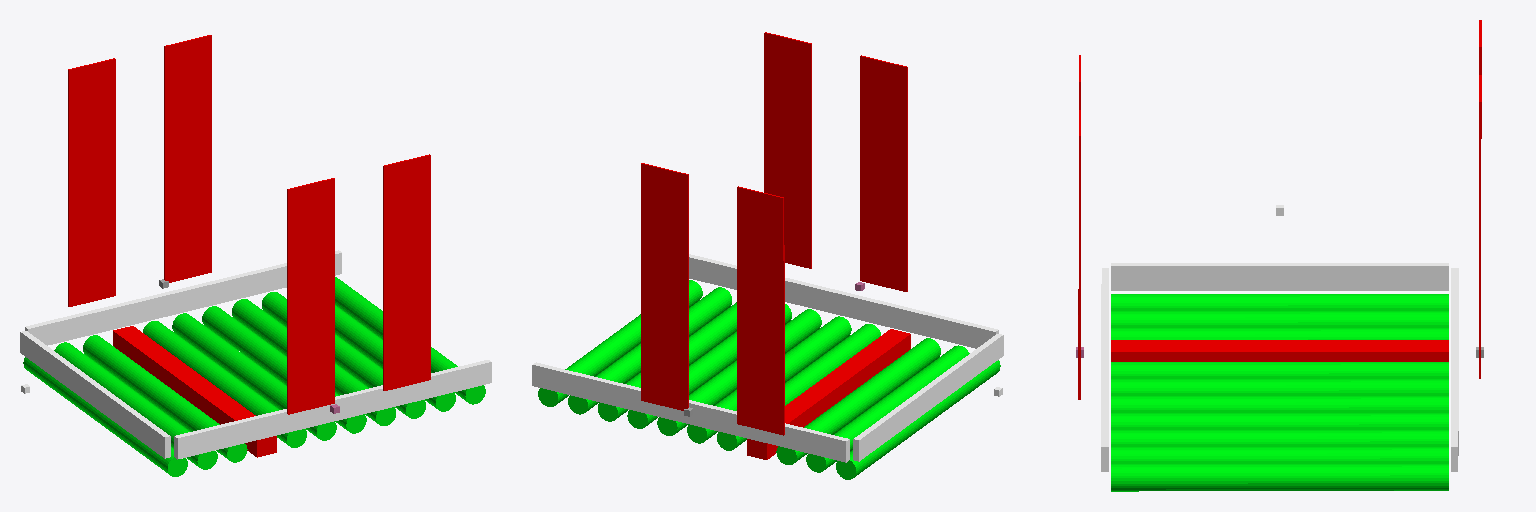
--- Facts derived from the render (not from the file) ---
The picture shows the robot from 3 angles, left to right: view 1: azimuth 30°, elevation 25°; view 2: azimuth 150°, elevation 25°; view 3: azimuth 270°, elevation 25°; orthographic projection.
Model conveyor_belt_dof1 with 30 links and 29 joints (13 revolute, 16 fixed), rooted at ee_base, posed all joints at 0.
Links seen in each view (by area): view 1: whisker_left_link, whisker_right_link, cover_right, cover_left, roller_link_4, cover_back, roller_link_3, roller_link_6, roller_link_5, roller_link_7, roller_link_2, roller_link_8 (+4 smaller); view 2: whisker_left_link, whisker_right_link, cover_left, cover_right, roller_link_4, cover_back, roller_link_3, roller_link_2, roller_link_5, roller_link_6, roller_link_11, roller_link_10 (+4 smaller); view 3: cover_back, roller_link_11, roller_link_4, roller_link_1, roller_link_2, roller_link_5, roller_link_6, roller_link_7, roller_link_8, roller_link_9, roller_link_10, roller_link_3 (+4 smaller).
Boxes of the visible links, x1,y1,x2,y2 form: whisker_left_link: (68, 35, 211, 306); whisker_right_link: (287, 154, 430, 414); cover_right: (174, 360, 491, 459); cover_left: (25, 250, 341, 345); roller_link_4: (113, 326, 276, 457); cover_back: (20, 331, 170, 458); roller_link_3: (83, 335, 247, 462); roller_link_6: (172, 313, 336, 440); roller_link_5: (143, 321, 306, 447); roller_link_7: (202, 306, 366, 433); roller_link_2: (54, 342, 217, 469); roller_link_8: (232, 299, 395, 425); whisker_left_link: (641, 163, 784, 435); whisker_right_link: (764, 32, 907, 291); cover_left: (532, 362, 849, 462); cover_right: (689, 254, 998, 348); roller_link_4: (747, 329, 910, 459); cover_back: (853, 334, 1003, 461); roller_link_3: (776, 338, 940, 464); roller_link_2: (806, 345, 969, 472); roller_link_5: (717, 324, 880, 450); roller_link_6: (687, 316, 851, 443); roller_link_11: (538, 280, 702, 406); roller_link_10: (568, 287, 731, 414); cover_back: (1111, 263, 1448, 290); roller_link_11: (1111, 464, 1448, 491); roller_link_4: (1111, 340, 1448, 361); roller_link_1: (1111, 294, 1448, 310); roller_link_2: (1111, 311, 1448, 327); roller_link_5: (1111, 362, 1448, 378); roller_link_6: (1111, 379, 1448, 395); roller_link_7: (1111, 396, 1448, 412); roller_link_8: (1111, 413, 1448, 429); roller_link_9: (1111, 430, 1448, 446); roller_link_10: (1111, 447, 1448, 463); roller_link_3: (1111, 328, 1448, 339).
Size in the robot's own frame: 0.675 by 0.52 by 0.4602 metres.
Geometry: primitives only (box / cylinder / sphere), no mesh files.

URDF robot description (conveyor_belt_dof1):
<?xml version="1.0"?>
<!-- =================================================================================== -->
<!-- |    This document was autogenerated by xacro from yaskawa7.urdf.xacro               | -->
<!-- |    EDITING THIS FILE BY HAND IS NOT RECOMMENDED                                 | -->
<!-- =================================================================================== -->
<robot name="conveyor_belt_dof1" xmlns:xacro="http://www.ros.org/wiki/xacro">
  <!-- Import Rviz colors -->
    <material name="green">
      <color rgba="0.0 1.0 0.1 1.0"/>
    </material>
    <material name="blue">
      <color rgba="0.0 0.0 1.0 1.0"/>
    </material>
    <material name="red">
      <color rgba="1.0 0.0 0.0 1.0"/>
    </material>
    <material name="white">
      <color rgba="1.0 1.0 1.0 1.0"/>
    </material>


    <!-- LINKS -->
    <!-- virtual link interfacing with ee_mount on robot arm-->
    <link name="ee_base">
      <visual>
        <material name="white"/>
        <geometry>
          <!-- <mesh filename="../mesh/cbee_gripper_1st-collision.obj" /> -->
          <box size="0.01 0.01 0.01"/>
        </geometry>
        <!-- <origin rpy="0 0 1.57" xyz="0.55 0 -0.2"/> -->
      </visual>
    </link>

    <link name="cover_back">
      <inertial>
        <mass value="0.001"/>
        <inertia ixx="0.1" ixy="0.0" ixz="0.0" iyy="0.1" iyz="0.0" izz="0.1"/>
      </inertial>
      <visual>
        <material name="white"/>
        <origin xyz="0 0 0" rpy="0 0 0"/>
        <geometry>
          <box size="0.01 0.43 0.035"/>
        </geometry>
      </visual>
      <collision>
        <geometry>
          <box size="0.01 0.43 0.035"/>
        </geometry>
      </collision>
    </link>

    <link name="cover_left">
      <inertial>
        <mass value="0.001"/>
        <inertia ixx="0.1" ixy="0.0" ixz="0.0" iyy="0.1" iyz="0.0" izz="0.1"/>
      </inertial>
      <visual>
        <material name="white"/>
        <origin xyz="0 0 0" rpy="0 0 0"/>
        <geometry>
          <box size="0.01 0.54 0.035"/>
        </geometry>
      </visual>
      <collision>
        <geometry>
          <box size="0.01 0.54 0.035"/>
        </geometry>
      </collision>
    </link>

    <link name="cover_right">
      <inertial>
        <mass value="0.001"/>
        <inertia ixx="0.1" ixy="0.0" ixz="0.0" iyy="0.1" iyz="0.0" izz="0.1"/>
      </inertial>
      <visual>
        <material name="white"/>
        <origin xyz="0 0 0" rpy="0 0 0"/>
        <geometry>
          <box size="0.01 0.54 0.035"/>
        </geometry>
      </visual>
      <collision>
        <geometry>
          <box size="0.01 0.54 0.035"/>
        </geometry>
      </collision>
    </link>

    <!-- links of cylinder base connected with the ee_base -->
    <!-- visual only? DO NOT ERASE THIS!! -->
    <!-- <link name="conveyor_belt_dof1_link">
      <inertial>
        <mass value="1.2"/>
        <origin xyz="0 0 0"/>
        <inertia ixx="1.0" ixy="0.0" ixz="0.0" iyy="1.0" iyz="0.0" izz="1.0"/>
      </inertial>
      <visual>
        <material name="white"/>
        <geometry>
          <mesh filename="../mesh/cbee_gripper_1st-collision.obj" />
        </geometry>
        <origin rpy="0 0 3.14" xyz="0.55 0 -0.1"/>
      </visual>
    </link> -->

    

     <!-- virtual link, equivlent of TCP (Tool Center Point) -->
    <link name="whisker_right_link">
      <inertial>
        <mass value="0.01"/>
        <origin xyz="0 0 0"/>
        <inertia ixx="1.0" ixy="0.0" ixz="0.0" iyy="1.0" iyz="0.0" izz="1.0"/>
      </inertial>

      <visual name="finger1">
        <material name="red"/>
        <geometry>
          <box size="0.08 0.37 0.003"/> 
        </geometry>
        <origin rpy="1.57 0 0" xyz="-0.04125 0 0.195"/>
      </visual>

      <visual name="finger2">
        <material name="red"/>
        <geometry>
          <box size="0.08 0.37 0.003"/> 
        </geometry>
        <origin rpy="1.57 0 0" xyz="0.12375 0 0.195"/>
      </visual>

      <collision name="finger1">
        <geometry>
          <box size="0.08 0.37 0.003"/>
        </geometry>
        <origin rpy="1.57 0 0" xyz="-0.04125 0 0.195"/>
      </collision>

      <collision name="finger2">
        <geometry>
          <box size="0.08 0.37 0.003"/> 
        </geometry>
        <origin rpy="1.57 0 0" xyz="0.12375 0 0.195"/>
      </collision>
    </link>

    <link name="whisker_left_link">
      <inertial>
        <mass value="0.01"/>
        <origin xyz="0 0 0"/>
        <inertia ixx="1.0" ixy="0.0" ixz="0.0" iyy="1.0" iyz="0.0" izz="1.0"/>
      </inertial>

      <visual name="finger1">
        <material name="red"/>
        <geometry>
          <box size="0.08 0.39 0.003"/>
        </geometry>
        <origin rpy="1.57 0 0" xyz="-0.12375 0 0.195"/>
      </visual>

      <visual name="finger2">
        <material name="red"/>
        <geometry>
          <box size="0.08 0.39 0.003"/> 
        </geometry>
        <origin rpy="1.57 0 0" xyz="0.04125 0 0.195"/>
      </visual>

      <collision name="finger1">
        <geometry>
          <box size="0.08 0.39 0.003"/>
        </geometry>
        <origin rpy="1.57 0 0" xyz="-0.12375 0 0.195"/>
      </collision>

      <collision name="finger2">
        <geometry>
          <box size="0.08 0.39 0.003"/> 
        </geometry>
        <origin rpy="1.57 0 0" xyz="0.04125 0 0.195"/>
      </collision>
    </link>

    <link name='right_whisker_offset'>
      <visual name='visual_right_offset'>
        <geometry>
          <box size="0.01 0.01 0.01"/>
        </geometry>
        <material>
          <diffuse>0 1 1 1.0</diffuse>
        </material>
      </visual> 
    </link>

    <link name='left_whisker_offset'>
        <visual name='visual_left_offset'>
        <geometry>
          <box size="0.01 0.01 0.01"/>
        </geometry>
        <material>
          <diffuse>0 1 1 1.0</diffuse>
        </material>
      </visual> 
    </link>

    <link name="roller_base_1">
      <!-- <visual>
        <material name="blue"/>
        <origin xyz="0 0 0" rpy="0 0 0"/>
        <geometry>
          <box size="0.05 0.05 0.05"/>
        </geometry>
      </visual> -->
    </link>

    <link name="roller_base_2">
      <!-- <visual>
        <material name="blue"/>
        <origin xyz="0 0 0" rpy="0 0 0"/>
        <geometry>
          <box size="0.05 0.05 0.05"/>
        </geometry>
      </visual> -->
    </link>

    <link name="roller_base_3">
      <!-- <visual>
        <material name="blue"/>
        <origin xyz="0 0 0" rpy="0 0 0"/>
        <geometry>
          <box size="0.05 0.05 0.05"/>
        </geometry>
      </visual> -->
    </link>

    <link name="roller_base_4">
      <!-- <visual>
        <material name="blue"/>
        <origin xyz="0 0 0" rpy="0 0 0"/>
        <geometry>
          <box size="0.05 0.05 0.05"/>
        </geometry>
      </visual> -->
    </link>

    <link name="roller_base_5">
      <!-- <visual>
        <material name="blue"/>
        <origin xyz="0 0 0" rpy="0 0 0"/>
        <geometry>
          <box size="0.05 0.05 0.05"/>
        </geometry>
      </visual> -->
    </link>

    <link name="roller_base_6">
      <!-- <visual>
        <material name="blue"/>
        <origin xyz="0 0 0" rpy="0 0 0"/>
        <geometry>
          <box size="0.05 0.05 0.05"/>
        </geometry>
      </visual> -->
    </link>   

    <link name="roller_base_7">
      <!-- <visual>
        <material name="blue"/>
        <origin xyz="0 0 0" rpy="0 0 0"/>
        <geometry>
          <box size="0.05 0.05 0.05"/>
        </geometry>
      </visual> -->
    </link>

    <link name="roller_base_8">
      <!-- <visual>
        <material name="blue"/>
        <origin xyz="0 0 0" rpy="0 0 0"/>
        <geometry>
          <box size="0.05 0.05 0.05"/>
        </geometry>
      </visual> -->
    </link>

    <link name="roller_base_9">
      <!-- <visual>
        <material name="blue"/>
        <origin xyz="0 0 0" rpy="0 0 0"/>
        <geometry>
          <box size="0.05 0.05 0.05"/>
        </geometry>
      </visual> -->
    </link>

    <link name="roller_base_10">
      <!-- <visual>
        <material name="blue"/>
        <origin xyz="0 0 0" rpy="0 0 0"/>
        <geometry>
          <box size="0.05 0.05 0.05"/>
        </geometry>
      </visual> -->
    </link>

    <link name="roller_base_11">
      <!-- <visual>
        <material name="blue"/>
        <origin xyz="0 0 0" rpy="0 0 0"/>
        <geometry>
          <box size="0.05 0.05 0.05"/>
        </geometry>
      </visual> -->
    </link>


    <link name="roller_link_1">
      <inertial>
        <mass value="0.001"/>
        <inertia ixx="0.1" ixy="0.0" ixz="0.0" iyy="0.1" iyz="0.0" izz="0.1"/>
      </inertial>
      <visual>
        <material name="green"/>
        <geometry>
          <cylinder radius="0.0175" length="0.43"/>
        </geometry>
      </visual>
      <collision>
        <geometry>
          <cylinder radius="0.0175" length="0.43"/>
        </geometry>
      </collision>
    </link>

    <link name="roller_link_2">
      <inertial>
        <mass value="0.001"/>
        <inertia ixx="0.1" ixy="0.0" ixz="0.0" iyy="0.1" iyz="0.0" izz="0.1"/>
      </inertial>
      <visual>
        <material name="green"/>
        <geometry>
          <cylinder radius="0.0175" length="0.43"/>
           <!-- <box size="0.04 0.04 0.5"/> -->
        </geometry>
      </visual>
      <collision>
        <geometry>
          <cylinder radius="0.0175" length="0.43"/>
        </geometry>
      </collision>
    </link>

    <link name="roller_link_3">
      <inertial>
        <mass value="0.001"/>
        <inertia ixx="0.1" ixy="0.0" ixz="0.0" iyy="0.1" iyz="0.0" izz="0.1"/>
      </inertial>
      <visual>
        <material name="green"/>
        <geometry>
          <cylinder radius="0.0175" length="0.43"/>
           <!-- <box size="0.04 0.04 0.5"/> -->
        </geometry>
      </visual>
      <collision>
        <geometry>
          <cylinder radius="0.0175" length="0.43"/>
        </geometry>
      </collision>
    </link>

    <link name="roller_link_4">
      <inertial>
        <mass value="0.001"/>
        <inertia ixx="0.1" ixy="0.0" ixz="0.0" iyy="0.1" iyz="0.0" izz="0.1"/>
      </inertial>
      <visual>
        <material name="red"/>
        <geometry>
          <!-- <cylinder radius="0.0175" length="0.43"/> -->
          <box size="0.035 0.035 0.43"/>
        </geometry>
      </visual>
      <collision>
        <geometry>
          <cylinder radius="0.0175" length="0.43"/>
        </geometry>
      </collision>
    </link>

    <link name="roller_link_5">
      <inertial>
        <mass value="0.001"/>
        <inertia ixx="0.1" ixy="0.0" ixz="0.0" iyy="0.1" iyz="0.0" izz="0.1"/>
      </inertial>
      <visual>
        <material name="green"/>
        <geometry>
          <cylinder radius="0.0175" length="0.43"/>
        </geometry>
      </visual>
      <collision>
        <geometry>
          <cylinder radius="0.0175" length="0.43"/>
        </geometry>
      </collision>
    </link>

    <link name="roller_link_6">
      <inertial>
        <mass value="0.001"/>
        <inertia ixx="0.1" ixy="0.0" ixz="0.0" iyy="0.1" iyz="0.0" izz="0.1"/>
      </inertial>
      <visual>
        <material name="green"/>
        <geometry>
          <cylinder radius="0.0175" length="0.43"/>
        </geometry>
      </visual>
      <collision>
        <geometry>
          <cylinder radius="0.0175" length="0.43"/>
        </geometry>
      </collision>
    </link>

    <link name="roller_link_7">
      <inertial>
        <mass value="0.001"/>
        <inertia ixx="0.1" ixy="0.0" ixz="0.0" iyy="0.1" iyz="0.0" izz="0.1"/>
      </inertial>
      <visual>
        <material name="green"/>
        <geometry>
          <cylinder radius="0.0175" length="0.43"/>
        </geometry>
      </visual>
      <collision>
        <geometry>
          <cylinder radius="0.0175" length="0.43"/>
        </geometry>
      </collision>
    </link>

    <link name="roller_link_8">
      <inertial>
        <mass value="0.001"/>
        <inertia ixx="0.1" ixy="0.0" ixz="0.0" iyy="0.1" iyz="0.0" izz="0.1"/>
      </inertial>
      <visual>
        <material name="green"/>
        <geometry>
          <cylinder radius="0.0175" length="0.43"/>
        </geometry>
      </visual>
      <collision>
        <geometry>
          <cylinder radius="0.0175" length="0.43"/>
        </geometry>
      </collision>
    </link>

    <link name="roller_link_9">
      <inertial>
        <mass value="0.001"/>
        <inertia ixx="0.1" ixy="0.0" ixz="0.0" iyy="0.1" iyz="0.0" izz="0.1"/>
      </inertial>
      <visual>
        <material name="green"/>
        <geometry>
          <cylinder radius="0.0175" length="0.43"/>
        </geometry>
      </visual>
      <collision>
        <geometry>
          <cylinder radius="0.0175" length="0.43"/>
        </geometry>
      </collision>
    </link>

    <link name="roller_link_10">
      <inertial>
        <mass value="0.001"/>
        <inertia ixx="0.1" ixy="0.0" ixz="0.0" iyy="0.1" iyz="0.0" izz="0.1"/>
      </inertial>
      <visual>
        <material name="green"/>
        <geometry>
          <cylinder radius="0.0175" length="0.43"/>
        </geometry>
      </visual>
      <collision>
        <geometry>
          <cylinder radius="0.0175" length="0.43"/>
        </geometry>
      </collision>
    </link>

    <link name="roller_link_11">
      <inertial>
        <mass value="0.001"/>
        <inertia ixx="0.1" ixy="0.0" ixz="0.0" iyy="0.1" iyz="0.0" izz="0.1"/>
      </inertial>
      <visual>
        <material name="green"/>
        <geometry>
          <cylinder radius="0.0175" length="0.43"/>
        </geometry>
      </visual>
      <collision>
        <geometry>
          <cylinder radius="0.0175" length="0.43"/>
        </geometry>
      </collision>
    </link>

    <!-- frame, equivlent of TCP (Tool Center Point) -->
    <frame link="ee_base" name="ee_tip_0" rpy="0 0 0" xyz="0.54 0 0"/>

    <!-- END LINKS -->


    <!-- JOINTS -->
    <joint name="cover_back_to_base" type="fixed">
      <parent link="ee_base"/>
      <child link="cover_back"/>
      <origin xyz="0.12 0 -0.0375" rpy="0 0 0"/>
    </joint>

    <joint name="cover_left_to_base" type="fixed">
      <parent link="ee_base"/>
      <child link="cover_left"/>
      <origin xyz="0.4 0.2225 -0.0375" rpy="0 0 1.57"/>
    </joint>

    <joint name="cover_right_to_base" type="fixed">
      <parent link="ee_base"/>
      <child link="cover_right"/>
      <origin xyz="0.4 -0.2225 -0.0375" rpy="0 0 1.57"/>
    </joint>

    <joint name="whisker_right_to_base" type="fixed">
      <parent link="ee_base"/>
      <child link="right_whisker_offset"/>
      <origin xyz="0.385 -0.255 -0.02" rpy="0 0 0"/>
    </joint>

    <joint name="whisker_left_to_base" type="fixed">
      <parent link="ee_base"/>
      <child link="left_whisker_offset"/>
      <origin xyz="0.385 0.255 -0.02" rpy="0 0 0"/>
    </joint>

    <!-- joint whisker right -->
    <joint name="whisker_right_joint" type="revolute">
      <parent link="right_whisker_offset"/>
      <child link="whisker_right_link"/>
      <origin xyz="0 0 0" rpy="0 0 0"/>
      <axis xyz="1 0 0"/>
    </joint>

    <!-- joint whisker left -->
    <joint name="whisker_left_joint" type="revolute">
      <parent link="left_whisker_offset"/>
      <child link="whisker_left_link"/>
      <origin xyz="0 0 0" rpy="0 0 0"/>
      <axis xyz="1 0 0"/>
    </joint>

    <!-- Offset from ee_base to roller joint -->
    <joint name="ee_base_to_roller_base_1" type="fixed">
      <parent link="ee_base"/>
      <child link="roller_base_1"/>
      <origin xyz="0.1375 0 -0.0725" rpy="-1.57 0 0"/>
    </joint>

    <joint name="ee_base_to_roller_base_2" type="fixed">
      <parent link="ee_base"/>
      <child link="roller_base_2"/>
      <origin xyz="0.18875 0 -0.0725" rpy="-1.57 0 0"/>
    </joint>

    <joint name="ee_base_to_roller_base_3" type="fixed">
      <parent link="ee_base"/>
      <child link="roller_base_3"/>
      <origin xyz="0.24 0 -0.0725" rpy="-1.57 0 0"/>
    </joint>

    <joint name="ee_base_to_roller_base_4" type="fixed">
      <parent link="ee_base"/>
      <child link="roller_base_4"/>
      <origin xyz="0.29125 0 -0.0725" rpy="-1.57 0 0"/>
    </joint>

    <joint name="ee_base_to_roller_base_5" type="fixed">
      <parent link="ee_base"/>
      <child link="roller_base_5"/>
      <origin xyz="0.3425 0 -0.0725" rpy="-1.57 0 0"/>
    </joint>

    <joint name="ee_base_to_roller_base_6" type="fixed">
      <parent link="ee_base"/>
      <child link="roller_base_6"/>
      <origin xyz="0.39375 0 -0.0725" rpy="-1.57 0 0"/>
    </joint>

    <joint name="ee_base_to_roller_base_7" type="fixed">
      <parent link="ee_base"/>
      <child link="roller_base_7"/>
      <origin xyz="0.445 0 -0.0725" rpy="-1.57 0 0"/>
    </joint>

    <joint name="ee_base_to_roller_base_8" type="fixed">
      <parent link="ee_base"/>
      <child link="roller_base_8"/>
      <origin xyz="0.49625 0 -0.0725" rpy="-1.57 0 0"/>
    </joint>

    <joint name="ee_base_to_roller_base_9" type="fixed">
      <parent link="ee_base"/>
      <child link="roller_base_9"/>
      <origin xyz="0.5475 0 -0.0725" rpy="-1.57 0 0"/>
    </joint>

    <joint name="ee_base_to_roller_base_10" type="fixed">
      <parent link="ee_base"/>
      <child link="roller_base_10"/>
      <origin xyz="0.59875 0 -0.0725" rpy="-1.57 0 0"/>
    </joint>

    <joint name="ee_base_to_roller_base_11" type="fixed">
      <parent link="ee_base"/>
      <child link="roller_base_11"/>
      <origin xyz="0.65 0 -0.0725" rpy="-1.57 0 0"/>
    </joint>




    <!-- Roller joints -->
    <joint name="roller_joint_1" type="revolute">
      <parent link="roller_base_1"/>
      <child link="roller_link_1"/>
      <origin xyz="0 0 0" rpy="0 0 0"/>
      <axis xyz="0 0 1"/>
    </joint>

    <joint name="roller_joint_2" type="revolute">
      <parent link="roller_base_2"/>
      <child link="roller_link_2"/>
      <origin xyz="0 0 0" rpy="0 0 0"/>
      <axis xyz="0 0 1"/>
    </joint>

    <joint name="roller_joint_3" type="revolute">
      <parent link="roller_base_3"/>
      <child link="roller_link_3"/>
      <origin xyz="0 0 0" rpy="0 0 0"/>
      <axis xyz="0 0 1"/>
    </joint>

    <joint name="roller_joint_4" type="revolute">
      <parent link="roller_base_4"/>
      <child link="roller_link_4"/>
      <origin xyz="0 0 0" rpy="0 0 0"/>
      <axis xyz="0 0 1"/>
    </joint>

    <joint name="roller_joint_5" type="revolute">
      <parent link="roller_base_5"/>
      <child link="roller_link_5"/>
      <origin xyz="0 0 0" rpy="0 0 0"/>
      <axis xyz="0 0 1"/>
    </joint>

    <joint name="roller_joint_6" type="revolute">
      <parent link="roller_base_6"/>
      <child link="roller_link_6"/>
      <origin xyz="0 0 0" rpy="0 0 0"/>
      <axis xyz="0 0 1"/>
    </joint>   

    <joint name="roller_joint_7" type="revolute">
      <parent link="roller_base_7"/>
      <child link="roller_link_7"/>
      <origin xyz="0 0 0" rpy="0 0 0"/>
      <axis xyz="0 0 1"/>
    </joint>

    <joint name="roller_joint_8" type="revolute">
      <parent link="roller_base_8"/>
      <child link="roller_link_8"/>
      <origin xyz="0 0 0" rpy="0 0 0"/>
      <axis xyz="0 0 1"/>
    </joint>

    <joint name="roller_joint_9" type="revolute">
      <parent link="roller_base_9"/>
      <child link="roller_link_9"/>
      <origin xyz="0 0 0" rpy="0 0 0"/>
      <axis xyz="0 0 1"/>
    </joint>

    <joint name="roller_joint_10" type="revolute">
      <parent link="roller_base_10"/>
      <child link="roller_link_10"/>
      <origin xyz="0 0 0" rpy="0 0 0"/>
      <axis xyz="0 0 1"/>
    </joint>

    <joint name="roller_joint_11" type="revolute">
      <parent link="roller_base_11"/>
      <child link="roller_link_11"/>
      <origin xyz="0 0 0" rpy="0 0 0"/>
      <axis xyz="0 0 1"/>
    </joint>


    <!-- END JOINTS -->

  <!--Extensions -->
  <!-- Load Gazebo lib and set the robot namespace -->
  <gazebo>
    <plugin filename="libgazebo_ros_control.so" name="gazebo_ros_controller">
      <robotNamespace>/yaskawa_ee</robotNamespace>
    </plugin>
  </gazebo>

  <gazebo reference="ee_base">
    <material>Gazebo/Grey</material>
    <mu1>0.2</mu1>
    <mu2>0.2</mu2>
  </gazebo>

  <gazebo reference="cover">
    <material>Gazebo/Grey</material>
    <mu1>0.2</mu1>
    <mu2>0.2</mu2>
  </gazebo>

  <gazebo reference="whisker_right_offset">
    <material>Gazebo/Grey</material>
    <mu1>0.2</mu1>
    <mu2>0.2</mu2>
  </gazebo> 

  <gazebo reference="whisker_left_offset">
    <material>Gazebo/Grey</material>
    <mu1>0.2</mu1>
    <mu2>0.2</mu2>
  </gazebo> 

  <gazebo reference="whisker_right_link">
    <material>Gazebo/Grey</material>
    <mu1>0.2</mu1>
    <mu2>0.2</mu2>
  </gazebo>  

  <gazebo reference="whisker_left_link">
    <material>Gazebo/Grey</material>
    <mu1>0.2</mu1>
    <mu2>0.2</mu2>
  </gazebo>

  <gazebo reference="roller_link_1">
    <material>Gazebo/Grey</material>
    <mu1>0.2</mu1>
    <mu2>0.2</mu2>
  </gazebo>

  <gazebo reference="roller_link_2">
    <material>Gazebo/Grey</material>
    <mu1>0.2</mu1>
    <mu2>0.2</mu2>
  </gazebo>

  <gazebo reference="roller_link_3">
    <material>Gazebo/Grey</material>
    <mu1>0.2</mu1>
    <mu2>0.2</mu2>
  </gazebo>

  <gazebo reference="roller_link_4">
    <material>Gazebo/Grey</material>
    <mu1>0.2</mu1>
    <mu2>0.2</mu2>
  </gazebo>

  <gazebo reference="roller_link_5">
    <material>Gazebo/Grey</material>
    <mu1>0.2</mu1>
    <mu2>0.2</mu2>
  </gazebo>

  <gazebo reference="roller_link_6">
    <material>Gazebo/Grey</material>
    <mu1>0.2</mu1>
    <mu2>0.2</mu2>
  </gazebo>

  <gazebo reference="roller_link_7">
    <material>Gazebo/Grey</material>
    <mu1>0.2</mu1>
    <mu2>0.2</mu2>
  </gazebo>

  <gazebo reference="roller_link_8">
    <material>Gazebo/Grey</material>
    <mu1>0.2</mu1>
    <mu2>0.2</mu2>
  </gazebo>

  <gazebo reference="roller_link_9">
    <material>Gazebo/Grey</material>
    <mu1>0.2</mu1>
    <mu2>0.2</mu2>
  </gazebo>

  <gazebo reference="roller_link_10">
    <material>Gazebo/Grey</material>
    <mu1>0.2</mu1>
    <mu2>0.2</mu2>
  </gazebo>

  <gazebo reference="roller_link_11">
    <material>Gazebo/Grey</material>
    <mu1>0.2</mu1>
    <mu2>0.2</mu2>
  </gazebo>

  <gazebo reference="roller_base_1">
    <material>Gazebo/Grey</material>
    <mu1>0.2</mu1>
    <mu2>0.2</mu2>
  </gazebo>

  <gazebo reference="roller_base_2">
    <material>Gazebo/Grey</material>
    <mu1>0.2</mu1>
    <mu2>0.2</mu2>
  </gazebo>

  <gazebo reference="roller_base_3">
    <material>Gazebo/Grey</material>
    <mu1>0.2</mu1>
    <mu2>0.2</mu2>
  </gazebo>

  <gazebo reference="roller_base_4">
    <material>Gazebo/Grey</material>
    <mu1>0.2</mu1>
    <mu2>0.2</mu2>
  </gazebo>

  <gazebo reference="roller_base_5">
    <material>Gazebo/Grey</material>
    <mu1>0.2</mu1>
    <mu2>0.2</mu2>
  </gazebo>

  <gazebo reference="roller_base_6">
    <material>Gazebo/Grey</material>
    <mu1>0.2</mu1>
    <mu2>0.2</mu2>
  </gazebo>

  <gazebo reference="roller_base_7">
    <material>Gazebo/Grey</material>
    <mu1>0.2</mu1>
    <mu2>0.2</mu2>
  </gazebo>

  <gazebo reference="roller_base_8">
    <material>Gazebo/Grey</material>
    <mu1>0.2</mu1>
    <mu2>0.2</mu2>
  </gazebo>

  <gazebo reference="roller_base_9">
    <material>Gazebo/Grey</material>
    <mu1>0.2</mu1>
    <mu2>0.2</mu2>
  </gazebo>

  <gazebo reference="roller_base_10">
    <material>Gazebo/Grey</material>
    <mu1>0.2</mu1>
    <mu2>0.2</mu2>
  </gazebo>

  <gazebo reference="roller_base_11">
    <material>Gazebo/Grey</material>
    <mu1>0.2</mu1>
    <mu2>0.2</mu2>
  </gazebo>

  <gazebo reference="ee_tip_0">
    <material>Gazebo/Grey</material>
    <mu1>0.2</mu1>
    <mu2>0.2</mu2>
  </gazebo>



  <transmission name="yaskawa_ee_1">
    <robotNamespace>/yaskawa</robotNamespace>
    <type>transmission_interface/SimpleTransmission</type>
    <joint name="whisker_right_joint">
      <hardwareInterface>PositionJointInterface</hardwareInterface>
    </joint>
    <actuator name="yaskawa_motor_a">
      <hardwareInterface>PositionJointInterface</hardwareInterface>
      <mechanicalReduction>1</mechanicalReduction>
    </actuator>
  </transmission>

  <transmission name="yaskawa_ee_2">
    <robotNamespace>/yaskawa</robotNamespace>
    <type>transmission_interface/SimpleTransmission</type>
    <joint name="whisker_left_joint">
      <hardwareInterface>PositionJointInterface</hardwareInterface>
    </joint>
    <actuator name="yaskawa_motor_b">
      <hardwareInterface>PositionJointInterface</hardwareInterface>
      <mechanicalReduction>1</mechanicalReduction>
    </actuator>
  </transmission>

  <transmission name="roller_transmission_1">
    <robotNamespace>/yaskawa</robotNamespace>
    <type>transmission_interface/SimpleTransmission</type>
    <joint name="roller_joint_1">
      <hardwareInterface>VelocityJointInterface</hardwareInterface>
    </joint>
    <actuator name="yaskawa_motor_1">
      <mechanicalReduction>1</mechanicalReduction>
    </actuator>
  </transmission>

  <transmission name="roller_transmission_2">
    <robotNamespace>/yaskawa</robotNamespace>
    <type>transmission_interface/SimpleTransmission</type>
    <joint name="roller_joint_2">
      <hardwareInterface>VelocityJointInterface</hardwareInterface>
    </joint>
    <actuator name="yaskawa_motor_2">
      <hardwareInterface>PositionJointInterface</hardwareInterface>
      <mechanicalReduction>1</mechanicalReduction>
    </actuator>
  </transmission>

  <transmission name="roller_transmission_3">
    <robotNamespace>/yaskawa</robotNamespace>
    <type>transmission_interface/SimpleTransmission</type>
    <joint name="roller_joint_3">
      <hardwareInterface>VelocityJointInterface</hardwareInterface>
    </joint>
    <actuator name="yaskawa_motor_3">
      <hardwareInterface>PositionJointInterface</hardwareInterface>
      <mechanicalReduction>1</mechanicalReduction>
    </actuator>
  </transmission>

  <transmission name="roller_transmission_4">
    <robotNamespace>/yaskawa</robotNamespace>
    <type>transmission_interface/SimpleTransmission</type>
    <joint name="roller_joint_4">
      <hardwareInterface>VelocityJointInterface</hardwareInterface>
    </joint>
    <actuator name="yaskawa_motor_4">
      <hardwareInterface>PositionJointInterface</hardwareInterface>
      <mechanicalReduction>1</mechanicalReduction>
    </actuator>
  </transmission>

  <transmission name="roller_transmission_5">
    <robotNamespace>/yaskawa</robotNamespace>
    <type>transmission_interface/SimpleTransmission</type>
    <joint name="roller_joint_5">
      <hardwareInterface>VelocityJointInterface</hardwareInterface>
    </joint>
    <actuator name="yaskawa_motor_5">
      <hardwareInterface>PositionJointInterface</hardwareInterface>
      <mechanicalReduction>1</mechanicalReduction>
    </actuator>
  </transmission>

  <transmission name="roller_transmission_6">
    <robotNamespace>/yaskawa</robotNamespace>
    <type>transmission_interface/SimpleTransmission</type>
    <joint name="roller_joint_6">
      <hardwareInterface>VelocityJointInterface</hardwareInterface>
    </joint>
    <actuator name="yaskawa_motor_6">
      <hardwareInterface>PositionJointInterface</hardwareInterface>
      <mechanicalReduction>1</mechanicalReduction>
    </actuator>
  </transmission>

  <transmission name="roller_transmission_7">
    <robotNamespace>/yaskawa</robotNamespace>
    <type>transmission_interface/SimpleTransmission</type>
    <joint name="roller_joint_7">
      <hardwareInterface>VelocityJointInterface</hardwareInterface>
    </joint>
    <actuator name="yaskawa_motor_7">
      <hardwareInterface>PositionJointInterface</hardwareInterface>
      <mechanicalReduction>1</mechanicalReduction>
    </actuator>
  </transmission>

  <transmission name="roller_transmission_8">
    <robotNamespace>/yaskawa</robotNamespace>
    <type>transmission_interface/SimpleTransmission</type>
    <joint name="roller_joint_8">
      <hardwareInterface>VelocityJointInterface</hardwareInterface>
    </joint>
    <actuator name="yaskawa_motor_8">
      <hardwareInterface>PositionJointInterface</hardwareInterface>
      <mechanicalReduction>1</mechanicalReduction>
    </actuator>
  </transmission>

  <transmission name="roller_transmission_9">
    <robotNamespace>/yaskawa</robotNamespace>
    <type>transmission_interface/SimpleTransmission</type>
    <joint name="roller_joint_9">
      <hardwareInterface>VelocityJointInterface</hardwareInterface>
    </joint>
    <actuator name="yaskawa_motor_9">
      <hardwareInterface>PositionJointInterface</hardwareInterface>
      <mechanicalReduction>1</mechanicalReduction>
    </actuator>
  </transmission>

  <transmission name="roller_transmission_10">
    <robotNamespace>/yaskawa</robotNamespace>
    <type>transmission_interface/SimpleTransmission</type>
    <joint name="roller_joint_10">
      <hardwareInterface>VelocityJointInterface</hardwareInterface>
    </joint>
    <actuator name="yaskawa_motor_10">
      <hardwareInterface>PositionJointInterface</hardwareInterface>
      <mechanicalReduction>1</mechanicalReduction>
    </actuator>
  </transmission>

  <transmission name="roller_transmission_11">
    <robotNamespace>/yaskawa</robotNamespace>
    <type>transmission_interface/SimpleTransmission</type>
    <joint name="roller_joint_11">
      <hardwareInterface>VelocityJointInterface</hardwareInterface>
    </joint>
    <actuator name="yaskawa_motor_11">
      <hardwareInterface>PositionJointInterface</hardwareInterface>
      <mechanicalReduction>1</mechanicalReduction>
    </actuator>
  </transmission>

</robot>
